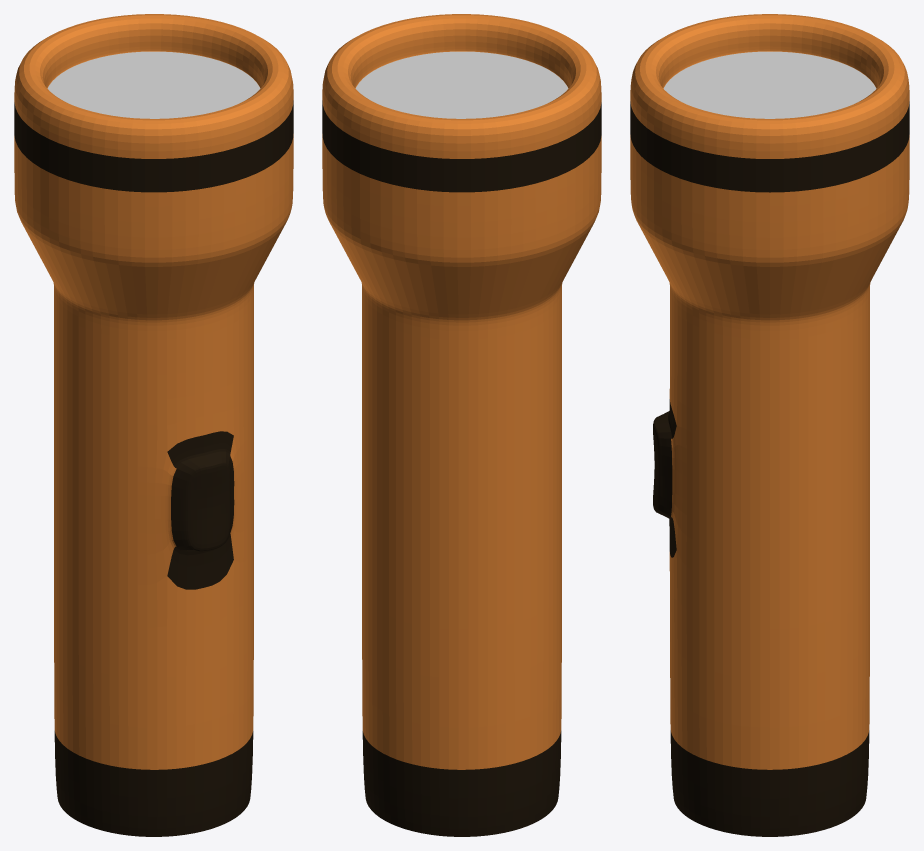
The model's file is Senter.fbx.
3 views of the same model, side by side, from view 1: azimuth 30°, elevation 25°; view 2: azimuth 150°, elevation 25°; view 3: azimuth 270°, elevation 25° (orthographic).
Visible parts, largest first — view 1: Circle; view 2: Circle; view 3: Circle.
Part boxes in pixels (x1=…): Circle: x1=14, y1=14, x2=293, y2=836; Circle: x1=322, y1=14, x2=601, y2=836; Circle: x1=630, y1=14, x2=909, y2=836.
Bounding box in the file's own units: 273 × 784 × 273.
